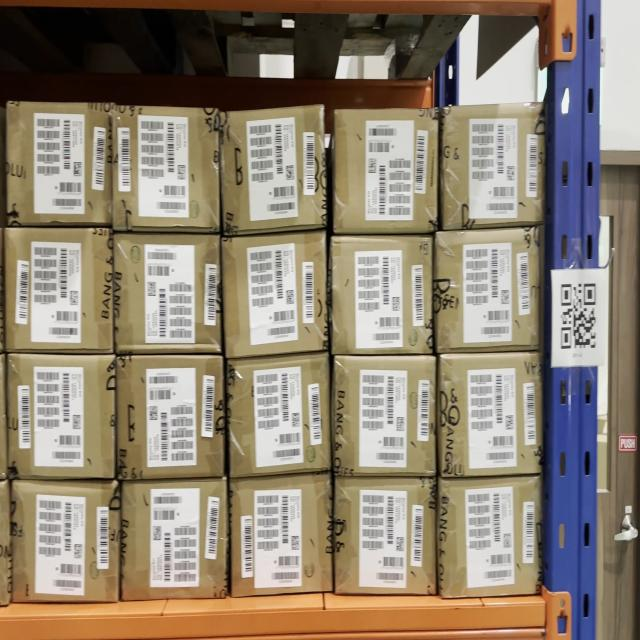box: (334, 110, 438, 233), (6, 229, 111, 349), (9, 354, 114, 474), (119, 357, 223, 477), (115, 110, 218, 228), (9, 103, 111, 222), (443, 106, 543, 226), (116, 236, 220, 351), (14, 484, 118, 599), (123, 483, 226, 596), (443, 353, 540, 472), (437, 232, 538, 346), (336, 479, 436, 594), (336, 358, 436, 473), (333, 239, 432, 355), (224, 112, 323, 227), (225, 236, 326, 348), (441, 479, 540, 592), (231, 360, 328, 472), (231, 480, 331, 588)
